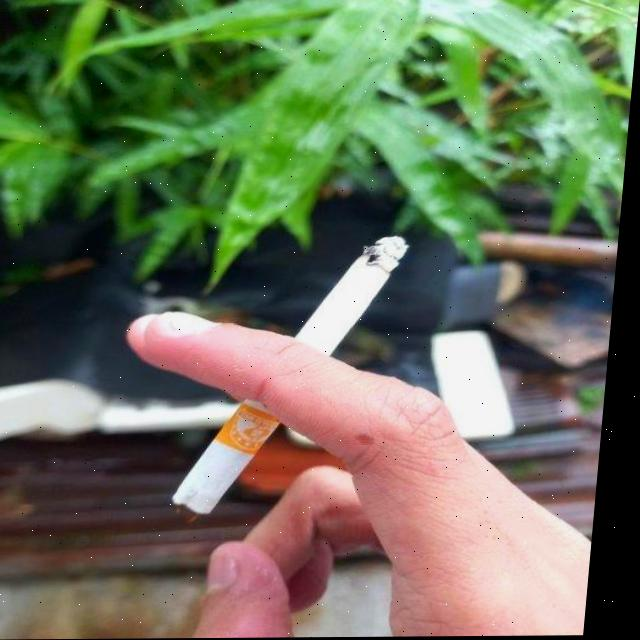cigarette: (181, 235, 410, 519)
